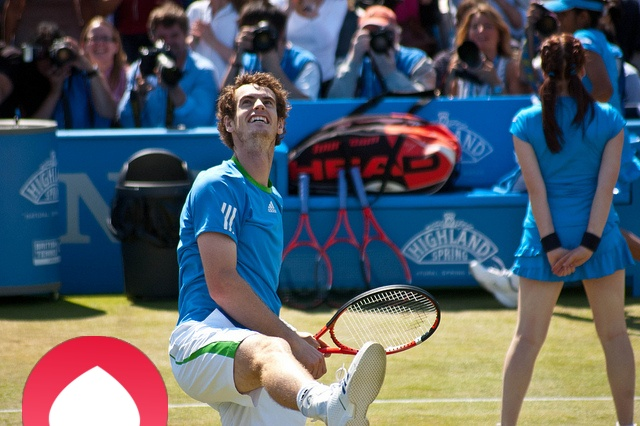love: (22, 336, 168, 426)
